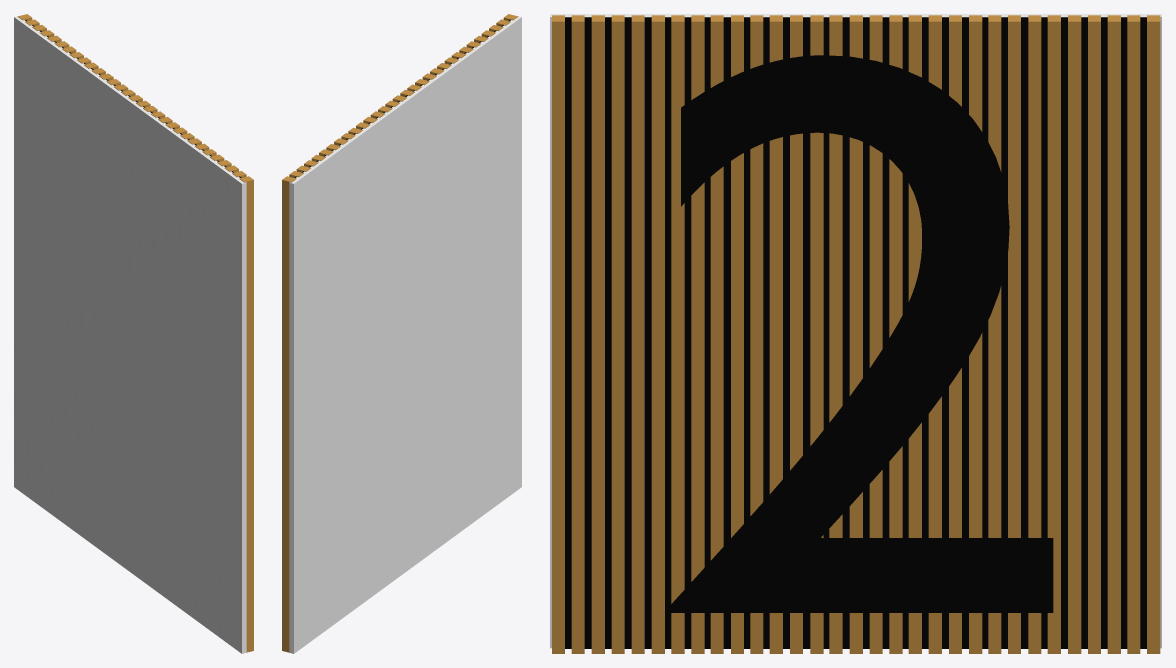
Rendered from 2 sal.fbx.
The picture shows the model from 3 angles, left to right: view 1: azimuth 30°, elevation 25°; view 2: azimuth 150°, elevation 25°; view 3: azimuth 270°, elevation 25°; orthographic projection. The views are drawn at different scales.
Visible parts, largest first — view 1: Cube.002, Cube.003; view 2: Cube.002, Cube.032; view 3: Cube, Text, Cube.032, Cube.031, Cube.030, Cube.028, Cube.008, Cube.007, Cube.006, Cube.005, Cube.004, Cube.027 (+22 smaller).
Boxes of the visible parts, left/top/right/bottom form: Cube.002: left=14, top=16, right=246, bottom=653; Cube.003: left=239, top=176, right=253, bottom=652; Cube.002: left=289, top=16, right=521, bottom=653; Cube.032: left=282, top=176, right=296, bottom=652; Cube: left=565, top=17, right=1146, bottom=648; Text: left=668, top=55, right=1053, bottom=612; Cube.032: left=1147, top=15, right=1160, bottom=653; Cube.031: left=1127, top=15, right=1140, bottom=653; Cube.030: left=1107, top=15, right=1120, bottom=653; Cube.028: left=1068, top=15, right=1081, bottom=653; Cube.008: left=651, top=15, right=664, bottom=653; Cube.007: left=631, top=15, right=644, bottom=653; Cube.006: left=611, top=15, right=624, bottom=653; Cube.005: left=591, top=15, right=604, bottom=653; Cube.004: left=571, top=15, right=584, bottom=653; Cube.027: left=1047, top=15, right=1060, bottom=653.
Size of the model in its own units: 27.92 by 940 by 824.
